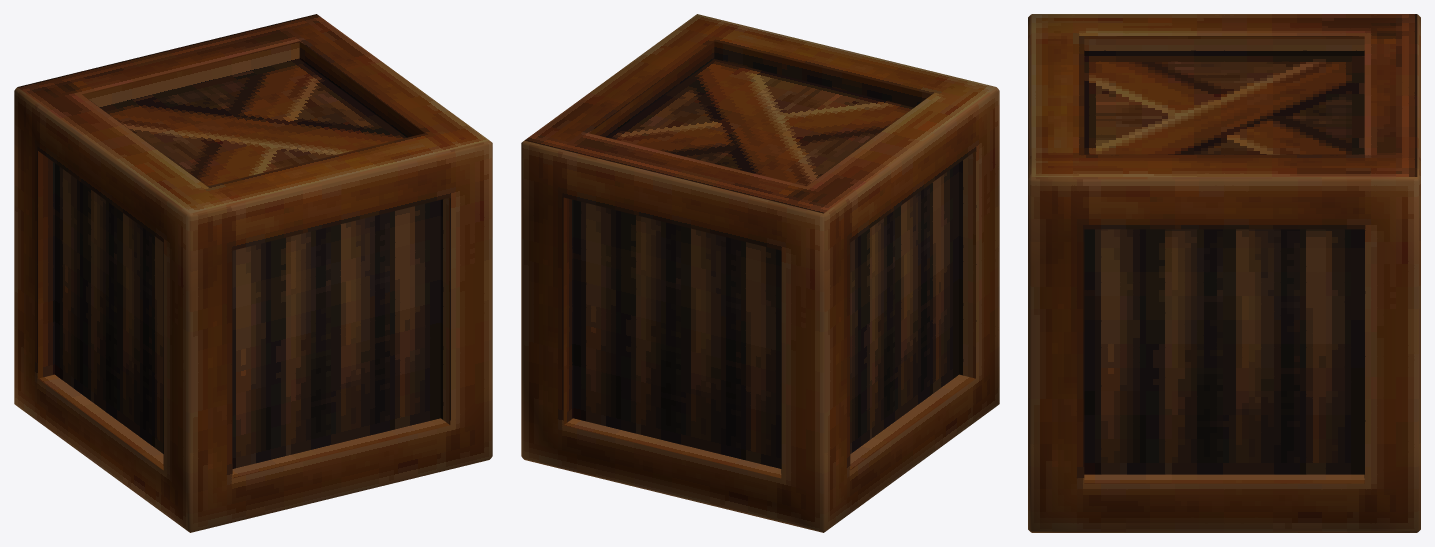
Rendered from BouncingCrate.FBX.
The picture shows the model from 3 angles, left to right: view 1: azimuth 30°, elevation 25°; view 2: azimuth 150°, elevation 25°; view 3: azimuth 270°, elevation 25°; orthographic projection. The views are drawn at different scales.
Visible parts, largest first — view 1: bounce_crate; view 2: bounce_crate; view 3: bounce_crate.
Boxes of the visible parts, bbox=[...] form: bounce_crate: bbox=[14, 14, 492, 532]; bounce_crate: bbox=[521, 14, 999, 532]; bounce_crate: bbox=[1028, 14, 1420, 532].
Bounding box in the file's own units: 50 × 50 × 50.
Materials: 2 (2 with a texture image).
